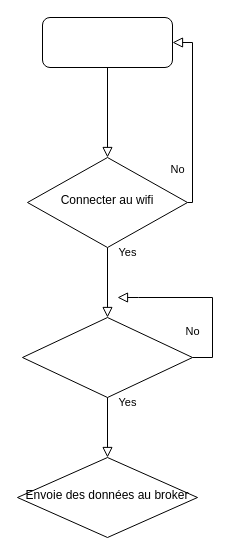
Image size: 240x555. Some labels were removed from this diagram. Each missing label, with the centre of its shape:
Connection au réseau wifi grâce au SSID et le mot de passe: point (107, 42)
Connexion au broker MQTT: point (107, 357)
